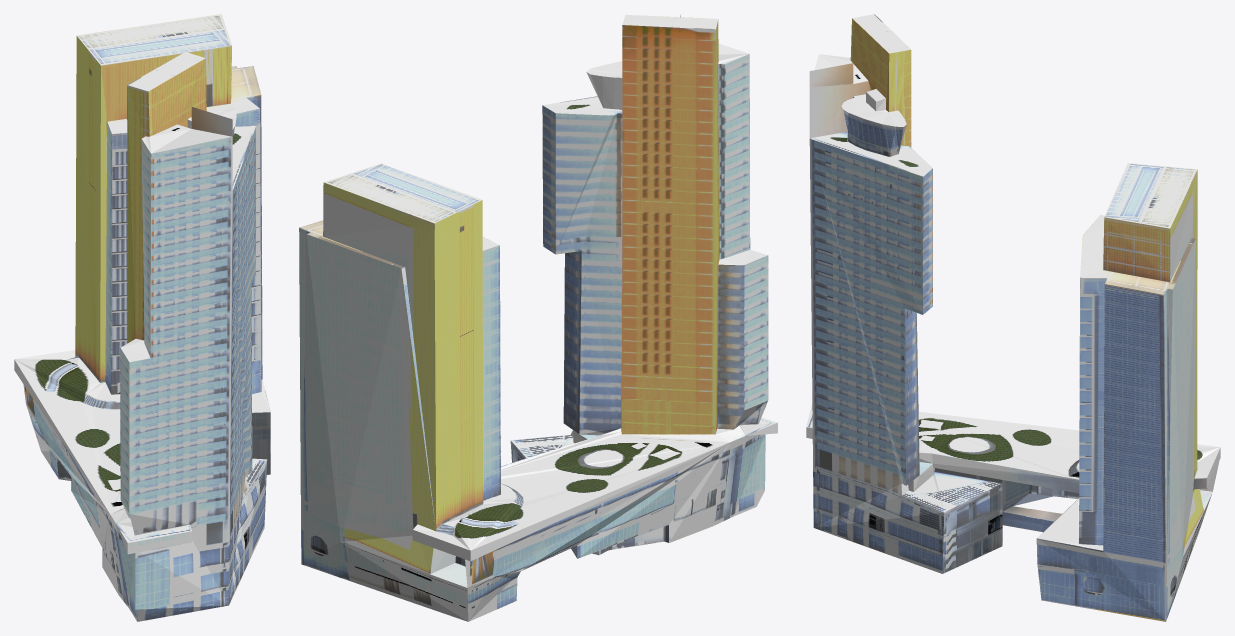
3 views of the same model, side by side, from view 1: azimuth 30°, elevation 25°; view 2: azimuth 150°, elevation 25°; view 3: azimuth 270°, elevation 25° (orthographic). The views are drawn at different scales.
Parts seen in each view (by area): view 1: 505.001; view 2: 505.001; view 3: 505.001.
Part boxes in pixels (x1,y1,x2,y2): 505.001: (14, 14, 270, 621); 505.001: (299, 14, 777, 621); 505.001: (806, 14, 1220, 621).
Size of the model in its own units: 95.25 by 149 by 116.
1 material, 1 textured.
